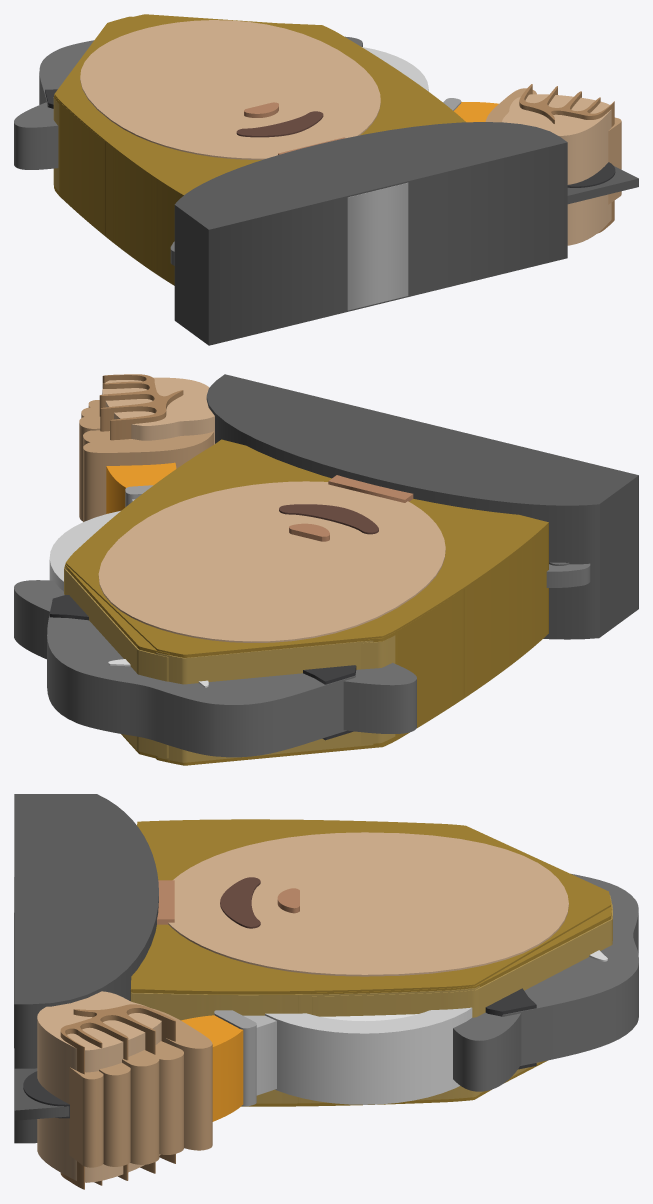
Rendered from emoji_u1f575_1f3fc_200d_2640.glb.
3 views of the same model, one above another, from view 1: azimuth 30°, elevation 25°; view 2: azimuth 150°, elevation 25°; view 3: azimuth 270°, elevation 25° (orthographic). The views are drawn at different scales.
Parts seen in each view (by area): view 1: emoji_u1f575_1f3fc_200d_2640; view 2: emoji_u1f575_1f3fc_200d_2640; view 3: emoji_u1f575_1f3fc_200d_2640.
Boxes of the visible parts, <box> form: emoji_u1f575_1f3fc_200d_2640: <box>14,14,638,345</box>; emoji_u1f575_1f3fc_200d_2640: <box>14,374,638,765</box>; emoji_u1f575_1f3fc_200d_2640: <box>14,794,638,1189</box>.
Size of the model in its own units: 0.0328 by 0.0084 by 0.0334.
